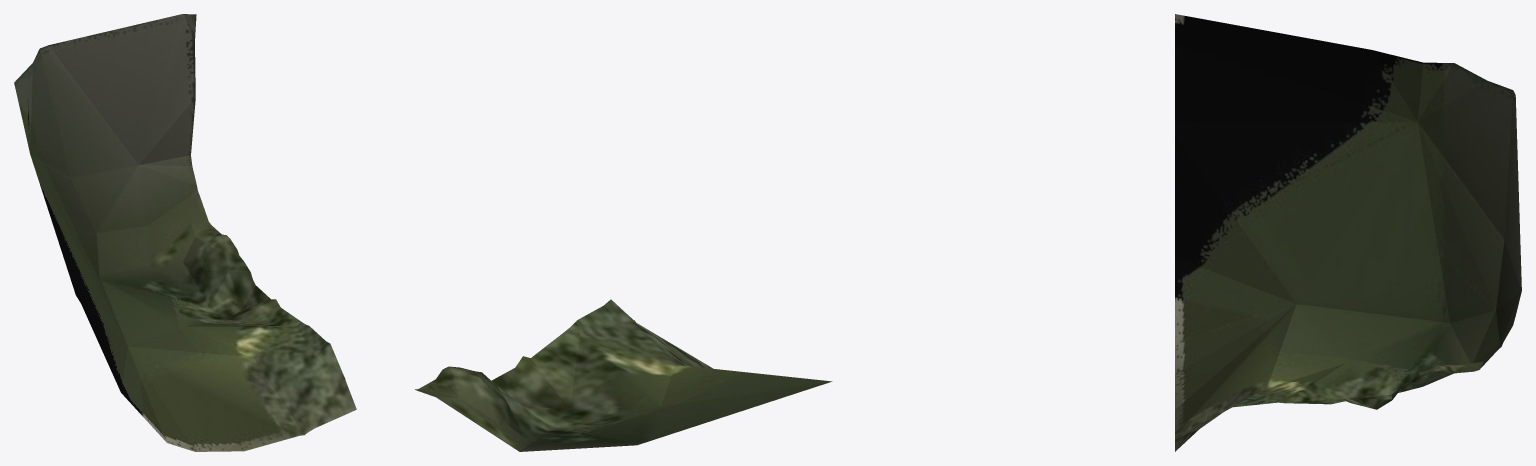
3 renders of one model, left to right at view 1: azimuth 30°, elevation 25°; view 2: azimuth 150°, elevation 25°; view 3: azimuth 270°, elevation 25°, orthographic. The views are drawn at different scales.
Bounding box in the file's own units: 4 × 3.67 × 3.84.
2 materials, 2 textured.
